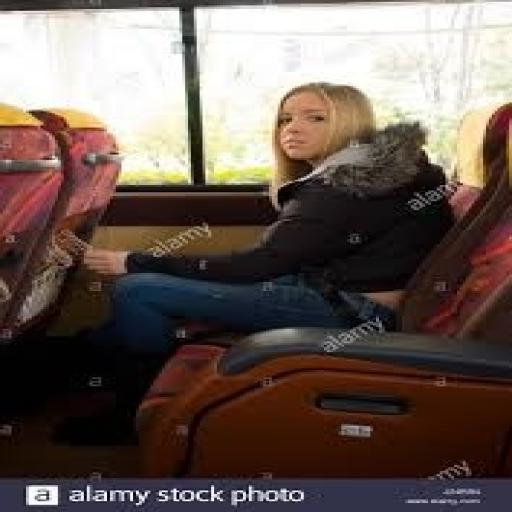sitting: (81, 79, 457, 356)
